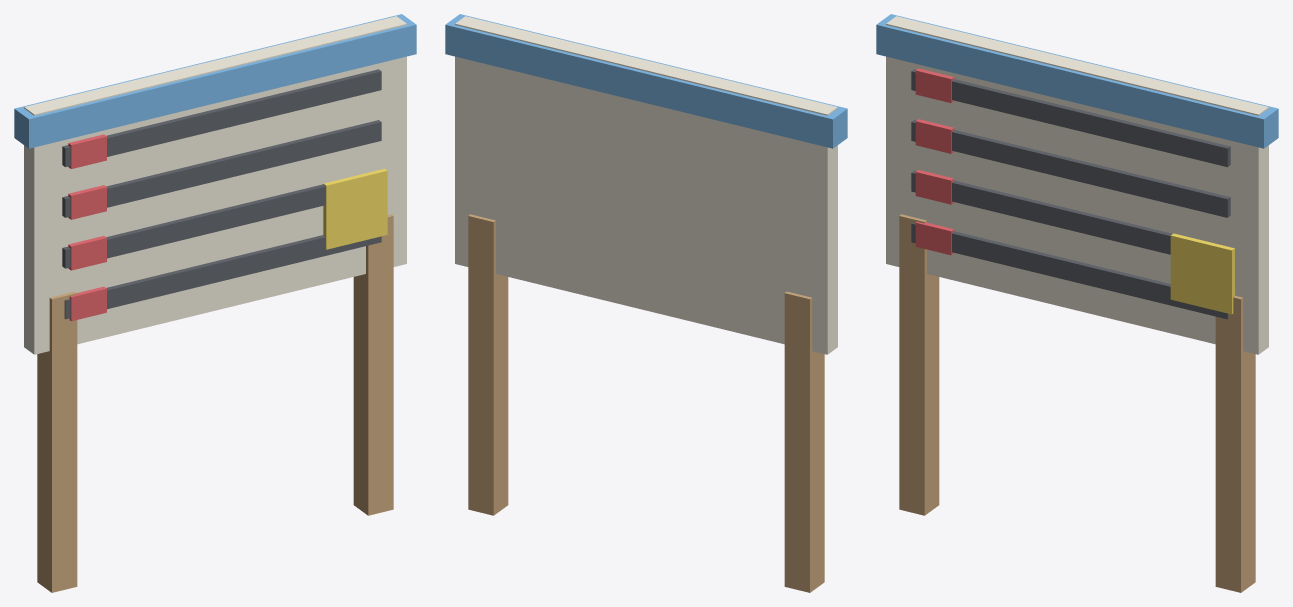
Rendered from lawn-mowing-simulator-kit-leaderboard-sign-board-1cf96f24__27370.glb.
3 views of the same model, side by side, from view 1: azimuth 30°, elevation 25°; view 2: azimuth 150°, elevation 25°; view 3: azimuth 330°, elevation 25° (orthographic).
Visible parts, largest first — view 1: leaderboard-sign-board; view 2: leaderboard-sign-board; view 3: leaderboard-sign-board.
Part boxes in pixels (<box>): leaderboard-sign-board: <box>14,14,416,592</box>; leaderboard-sign-board: <box>445,14,847,592</box>; leaderboard-sign-board: <box>876,14,1278,592</box>.
Bounding box in the file's own units: 1.52 × 1.8 × 0.11.
